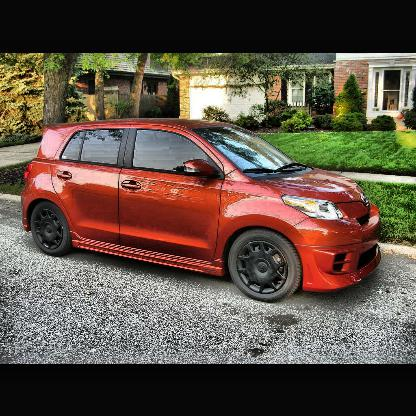Scion xD Hatchback 2012: (21, 115, 384, 305)
